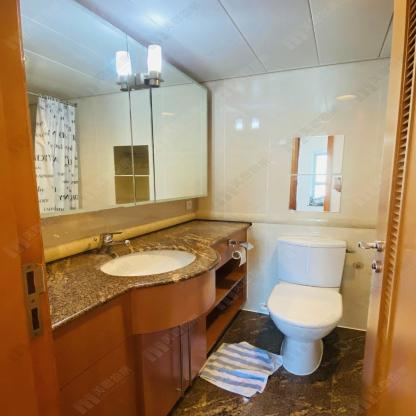Faucet: (94, 226, 132, 254)
Toilet: (255, 231, 358, 383)
Toilet Sink: (65, 233, 222, 298)
